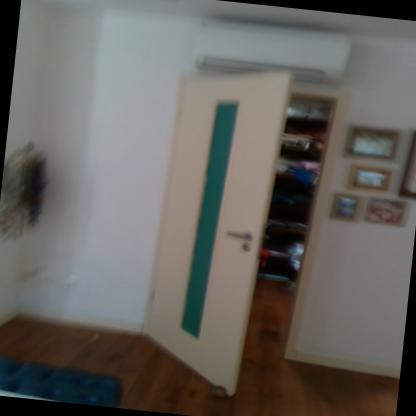semi: (139, 65, 338, 415)
